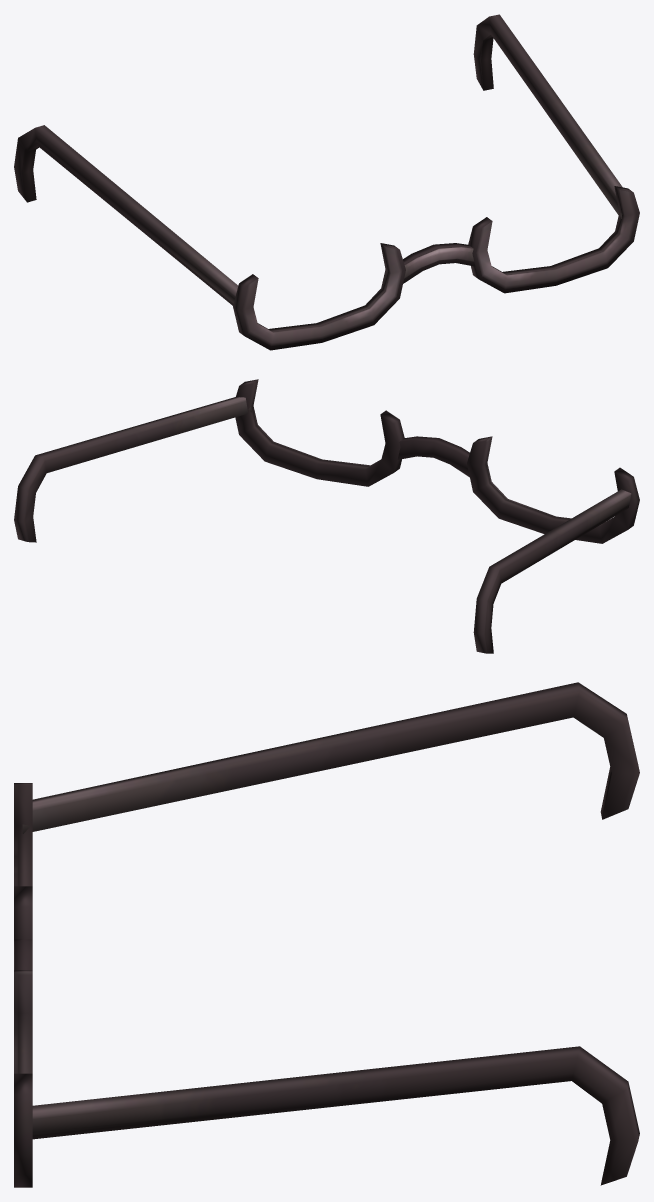
Rendered from Headwear_2600033.FBX.
The picture shows the model from 3 angles, top to bottom: view 1: azimuth 30°, elevation 25°; view 2: azimuth 150°, elevation 25°; view 3: azimuth 270°, elevation 25°; orthographic projection. The views are drawn at different scales.
Parts seen in each view (by area): view 1: Headwear_2600033; view 2: Headwear_2600033; view 3: Headwear_2600033.
Boxes of the visible parts, x1,y1,x2,y2 form: Headwear_2600033: (14, 14, 639, 350); Headwear_2600033: (14, 379, 639, 653); Headwear_2600033: (14, 682, 639, 1187).
Bounding box in the file's own units: 32.71 × 7.8 × 22.99.
